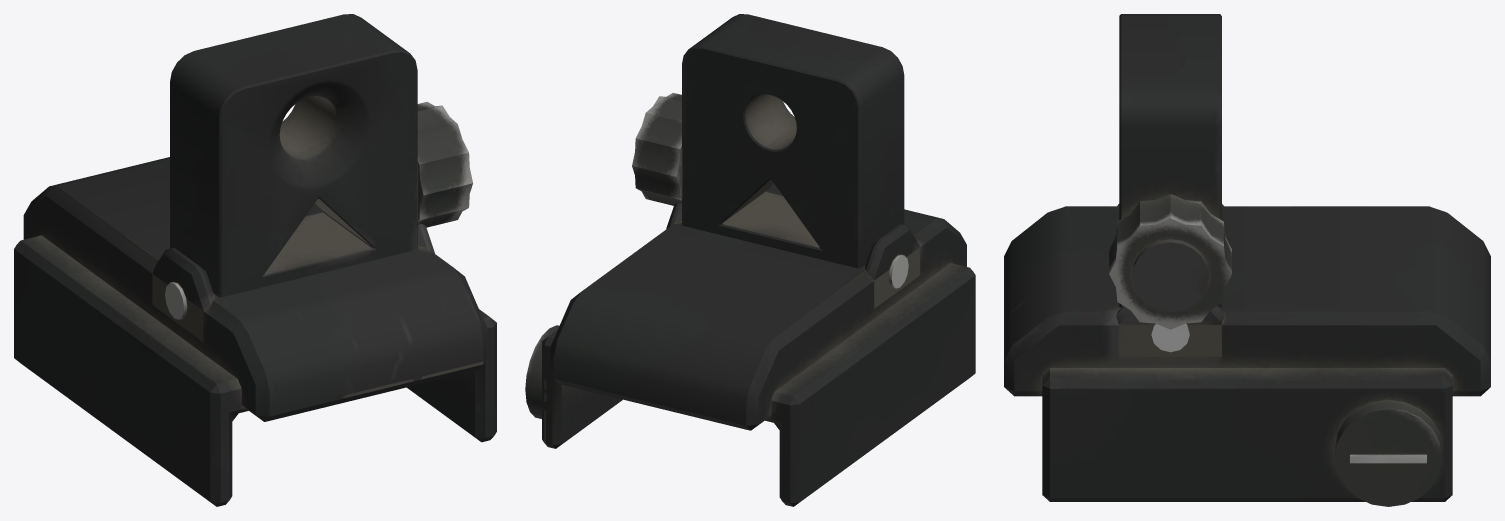
The model's file is alca_polimero.glb.
3 views of the same model, side by side, from view 1: azimuth 30°, elevation 25°; view 2: azimuth 150°, elevation 25°; view 3: azimuth 270°, elevation 25° (orthographic). The views are drawn at different scales.
Visible parts, largest first — view 1: alca_polimero_base, alca_polimero_lamina; view 2: alca_polimero_base, alca_polimero_lamina; view 3: alca_polimero_base, alca_polimero_lamina.
Part boxes in pixels (<box>): alca_polimero_base: <box>14,157,496,506</box>; alca_polimero_lamina: <box>170,14,472,297</box>; alca_polimero_base: <box>525,184,975,506</box>; alca_polimero_lamina: <box>632,14,904,268</box>; alca_polimero_base: <box>1004,204,1490,506</box>; alca_polimero_lamina: <box>1109,14,1231,329</box>.
Bounding box in the file's own units: 0.0281 × 0.0329 × 0.038.
Materials: 1 (1 with a texture image).
